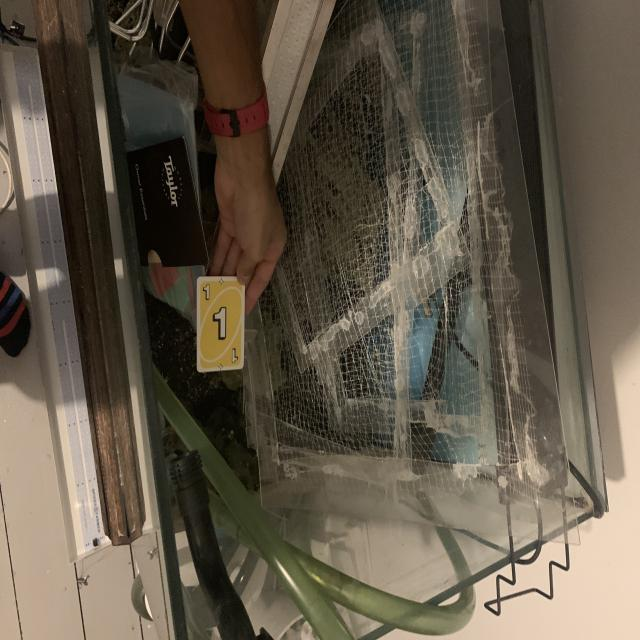lyellow-1: (200, 280, 214, 305)
